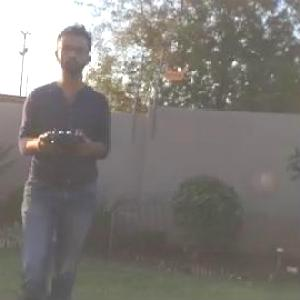follow: (11, 17, 112, 299)
